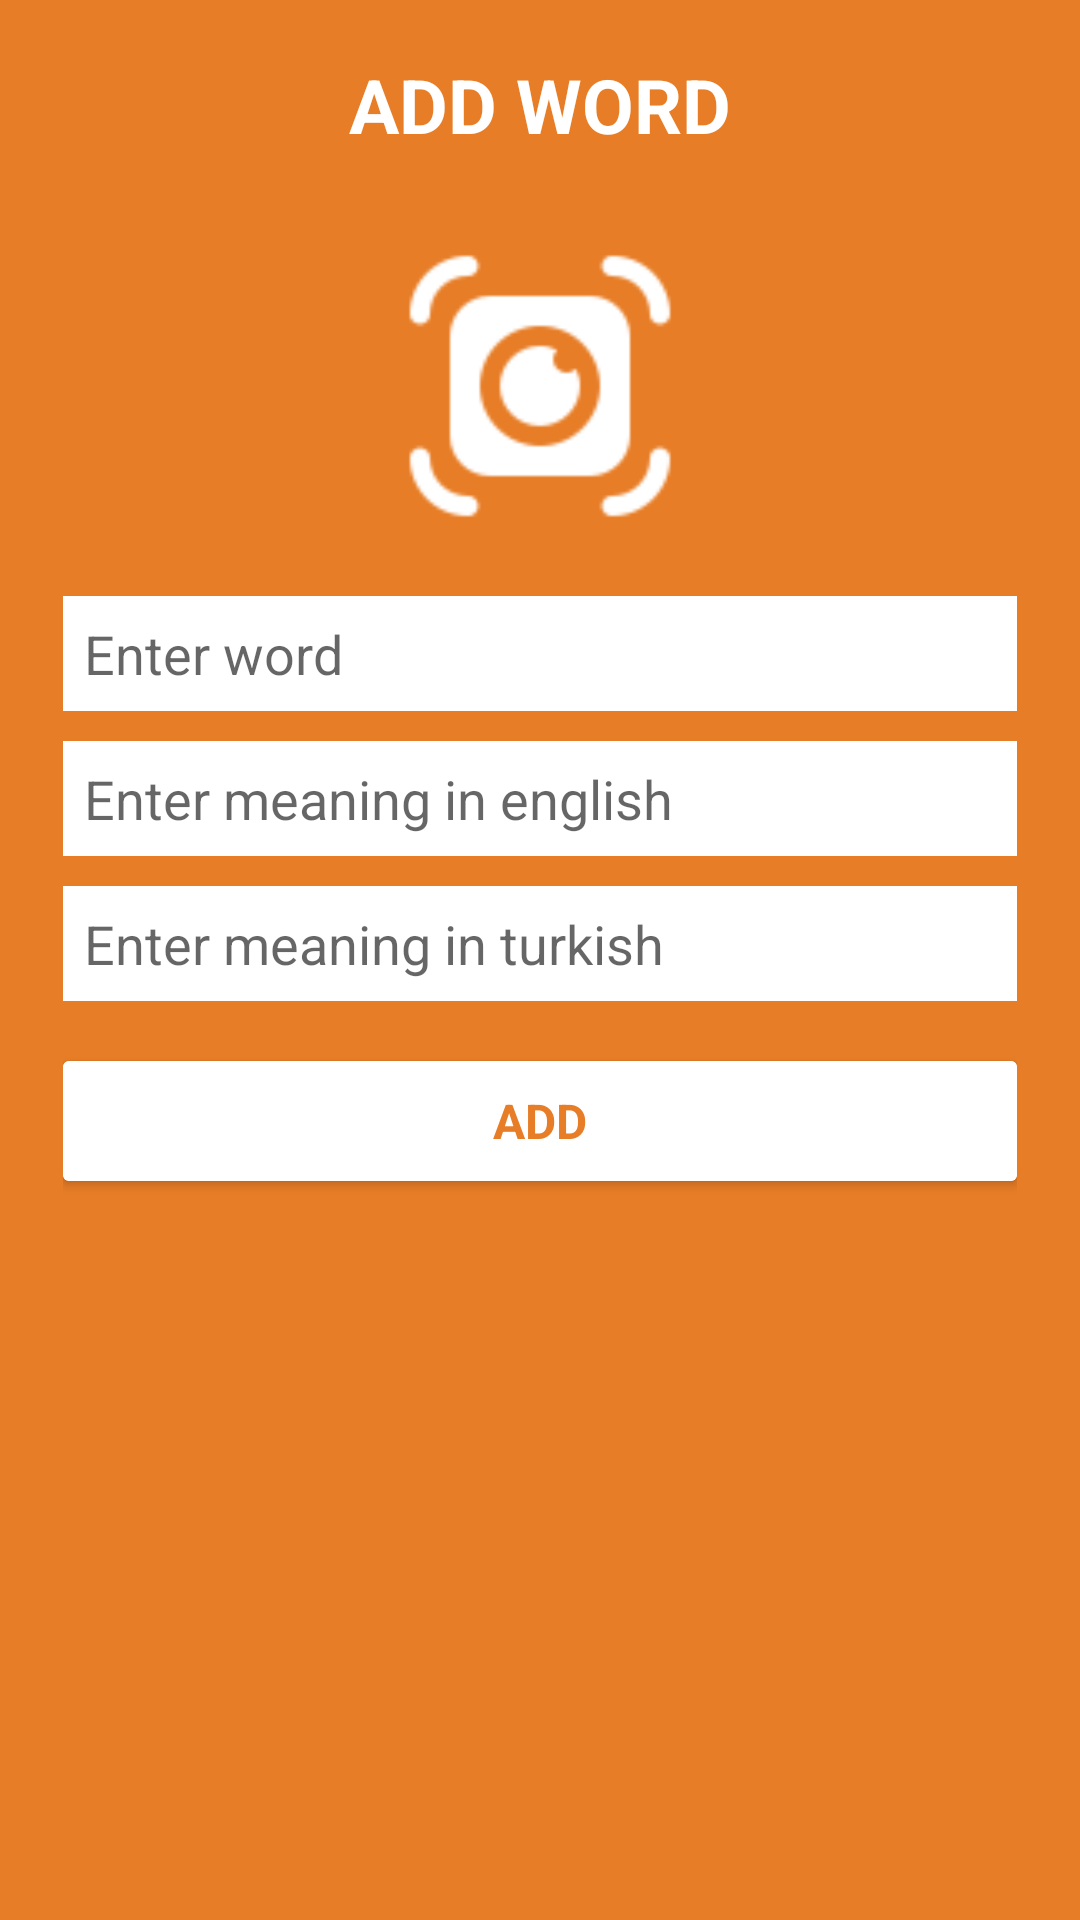

Named icons in this screenshot (1080×1920) and their bounding boxes, (x1, y1, x2, y2):
imageadd: (409, 255, 671, 517)
